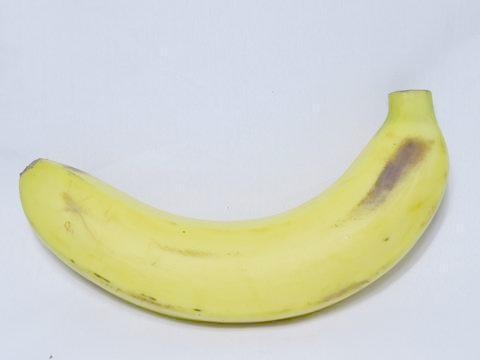freshripe: (7, 75, 471, 347)
